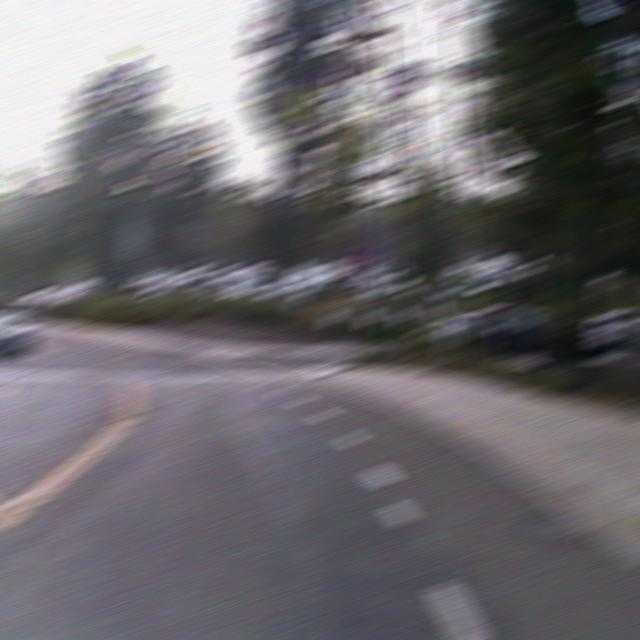stop_sign: (335, 248, 369, 281)
